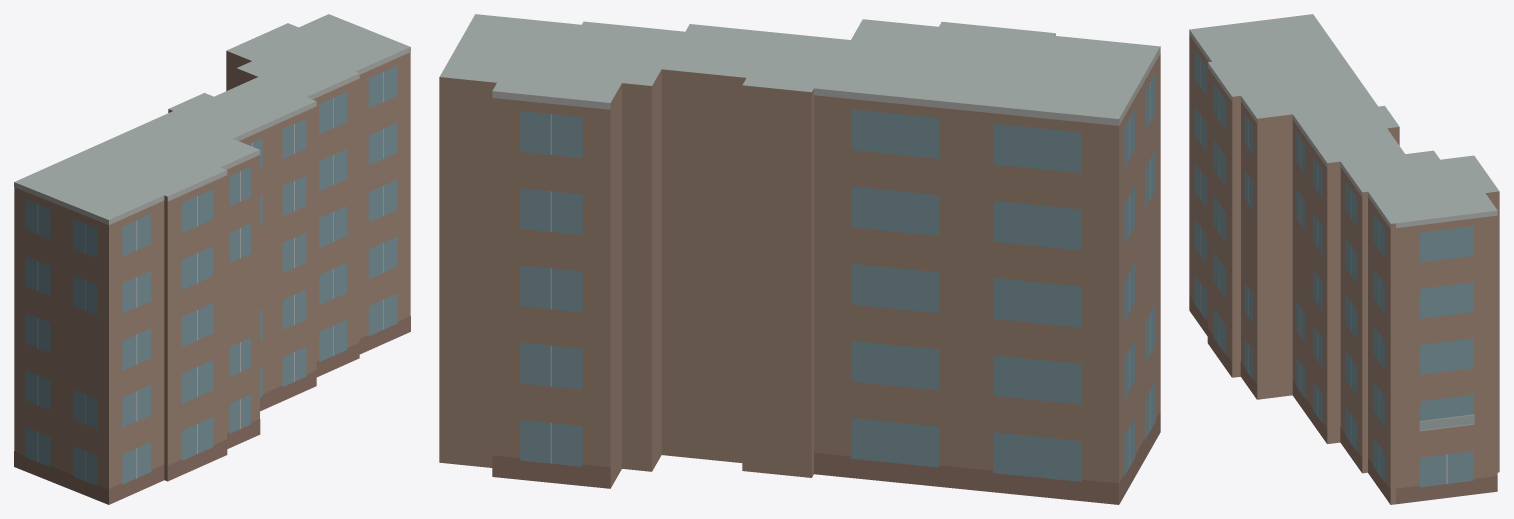
File: survey-upis-32970771.glb
The picture shows the model from 3 angles, left to right: view 1: azimuth 30°, elevation 25°; view 2: azimuth 150°, elevation 25°; view 3: azimuth 270°, elevation 25°; orthographic projection. The views are drawn at different scales.
Parts seen in each view (by area): view 1: survey-upis-32970771.tmp; view 2: survey-upis-32970771.tmp; view 3: survey-upis-32970771.tmp.
Part boxes in pixels (x1=…): survey-upis-32970771.tmp: x1=14, y1=14, x2=410, y2=504; survey-upis-32970771.tmp: x1=439, y1=14, x2=1160, y2=504; survey-upis-32970771.tmp: x1=1189, y1=14, x2=1499, y2=504.
Bounding box in the file's own units: 22.11 × 13.8 × 13.82.
